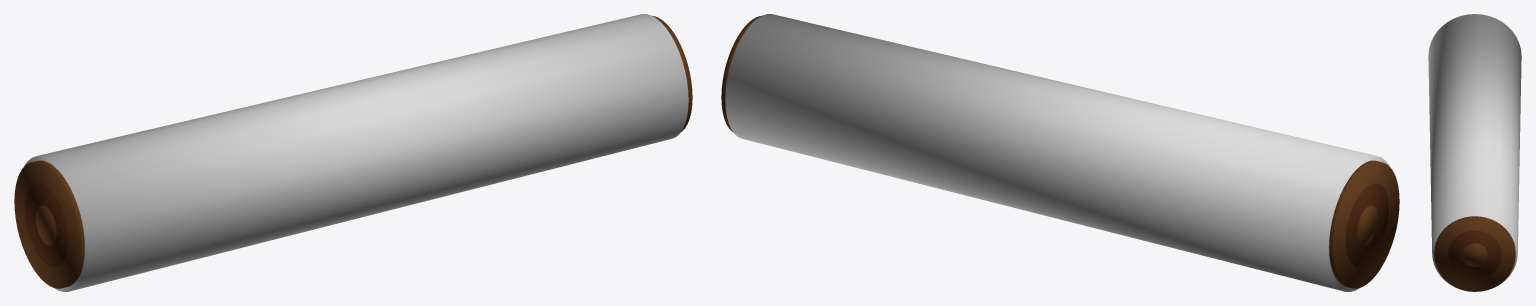
The model's file is tree-trunk-log.obj.
3 views of the same model, side by side, from view 1: azimuth 30°, elevation 25°; view 2: azimuth 150°, elevation 25°; view 3: azimuth 270°, elevation 25° (orthographic). The views are drawn at different scales.
Visible parts, largest first — view 1: tree-trunk-log; view 2: tree-trunk-log; view 3: tree-trunk-log.
Boxes of the visible parts, <box> form: tree-trunk-log: <box>14,14,692,291</box>; tree-trunk-log: <box>721,14,1399,291</box>; tree-trunk-log: <box>1428,14,1521,291</box>.
Size of the model in its own units: 1.94 by 0.38 by 0.38.
